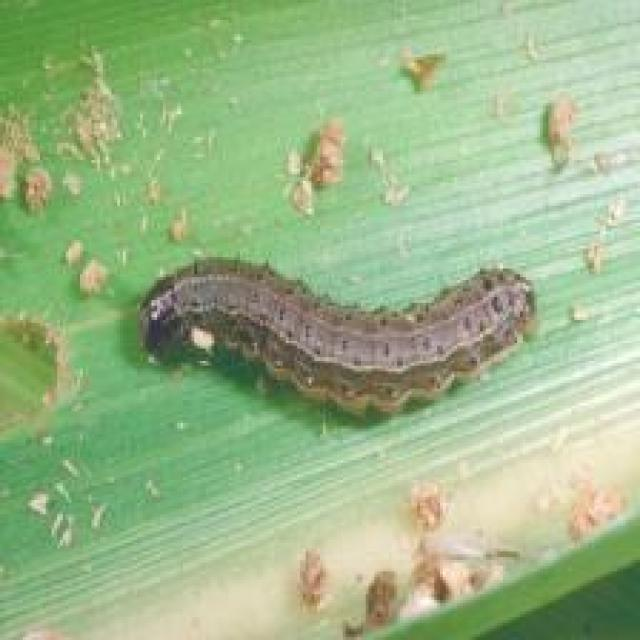Plaga: (133, 224, 550, 441)
